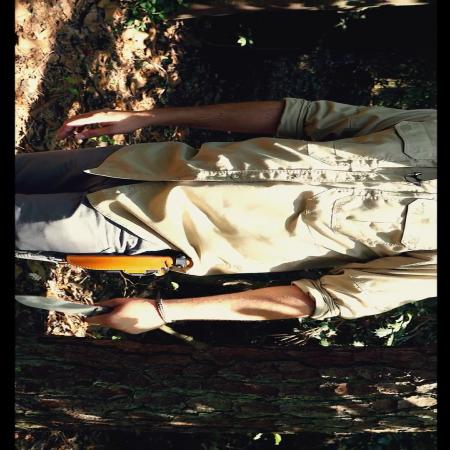long weapon: (7, 292, 132, 332)
